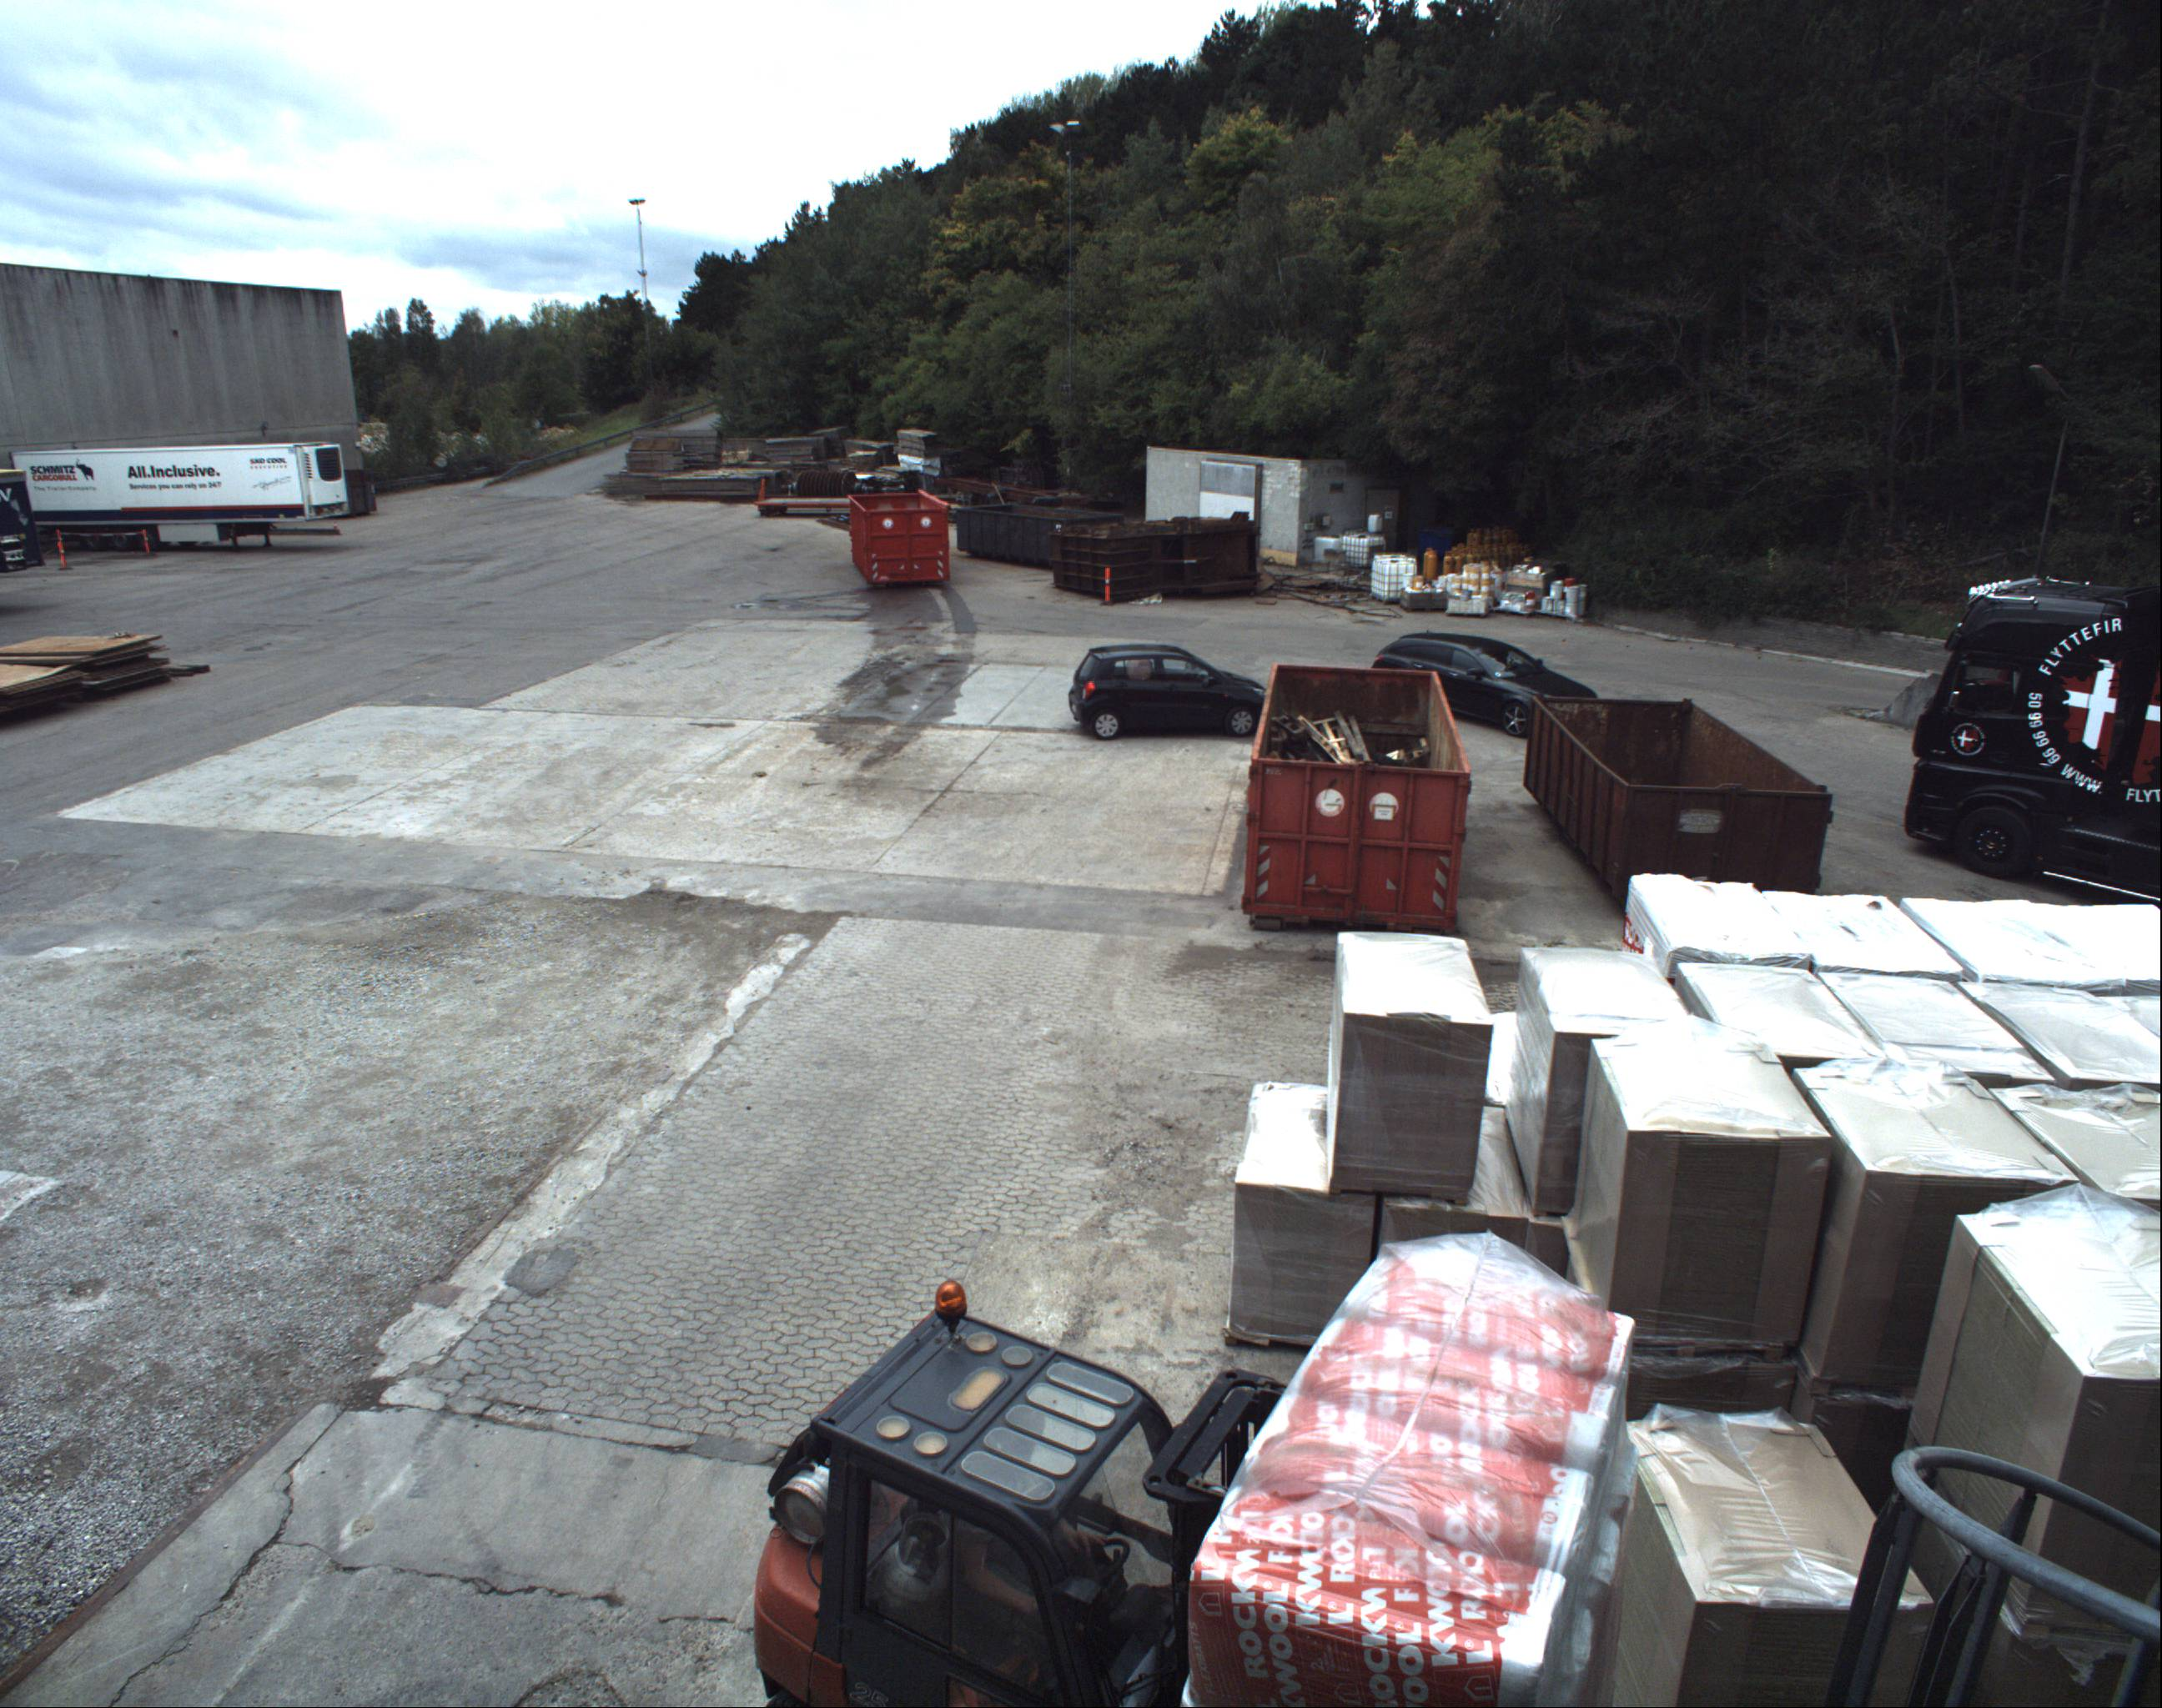rockwool_batts: (1183, 1231, 1629, 1706)
